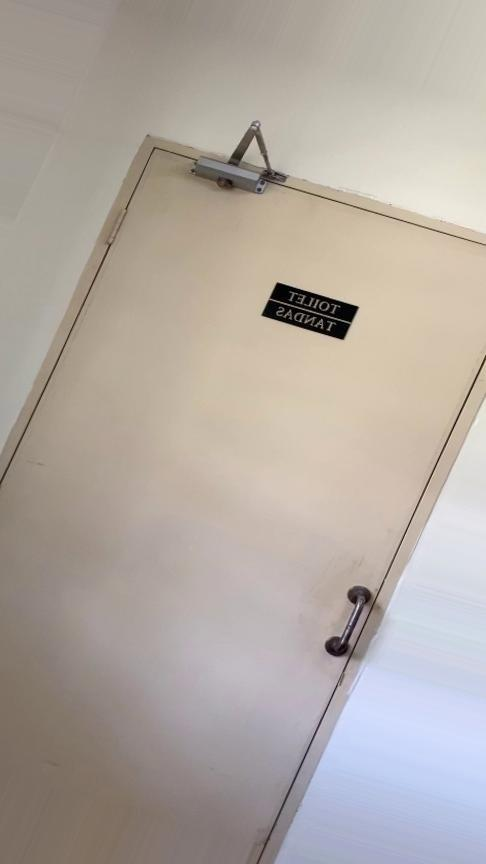door: (0, 137, 486, 864)
